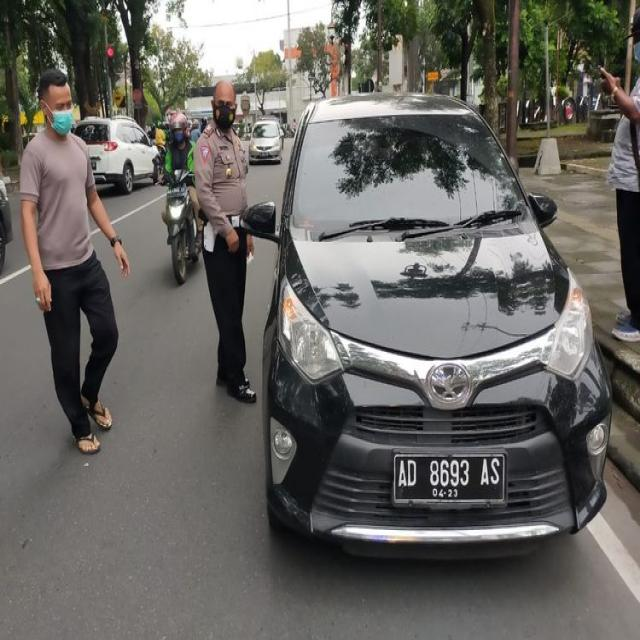license-plat: (392, 442, 511, 514)
